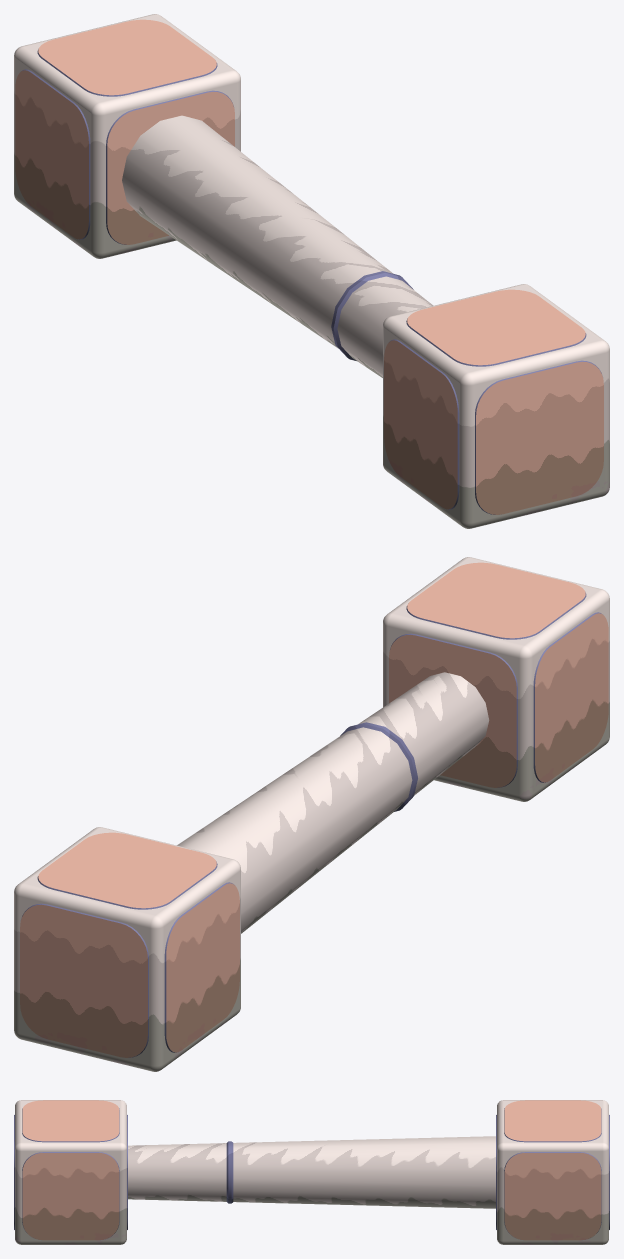
File: R4C_STRUT_LONG.glb
3 renders of one model, top to bottom at view 1: azimuth 30°, elevation 25°; view 2: azimuth 150°, elevation 25°; view 3: azimuth 270°, elevation 25°, orthographic. The views are drawn at different scales.
Parts seen in each view (by area): view 1: R4C_STRUT_LONG; view 2: R4C_STRUT_LONG; view 3: R4C_STRUT_LONG.
Part boxes in pixels (x1,y1,x2,y2): R4C_STRUT_LONG: (14, 14, 609, 528); R4C_STRUT_LONG: (14, 557, 609, 1071); R4C_STRUT_LONG: (14, 1100, 609, 1244).
Bounding box in the file's own units: 0.52 × 0.52 × 2.72.
Materials: 3 (3 with a texture image).
